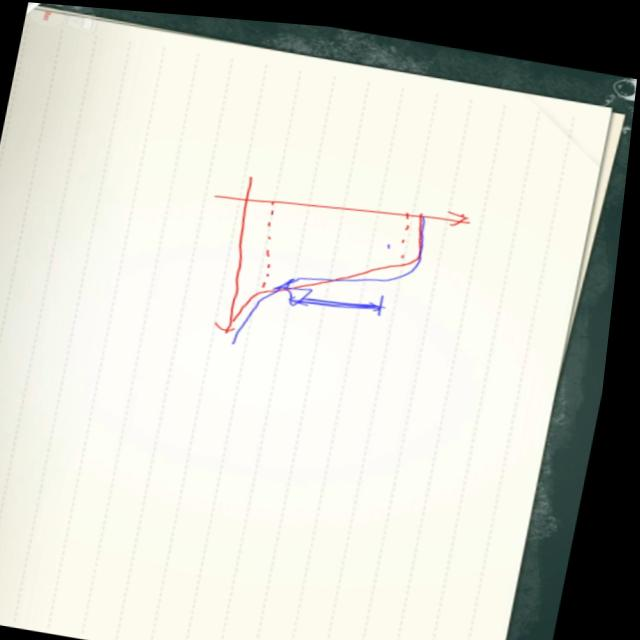panseo: (167, 136, 510, 387)
